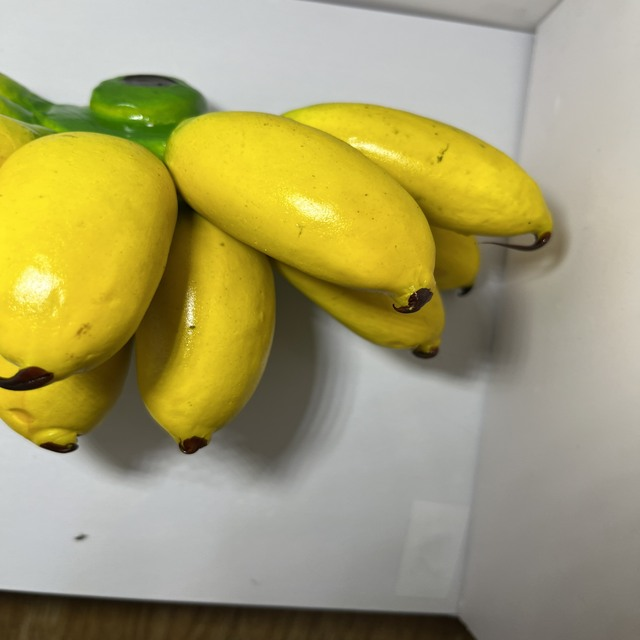Chuoi: (0, 65, 557, 468)
